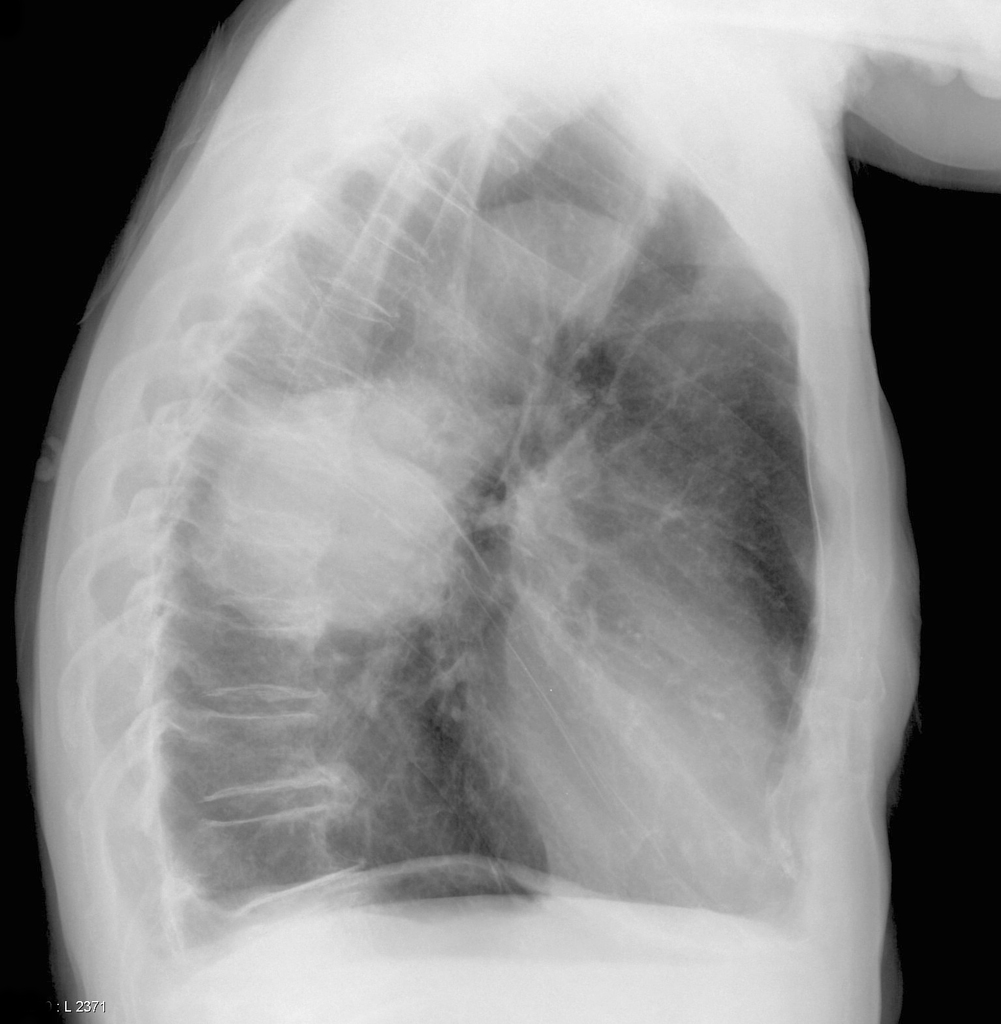cancer: (235, 155, 814, 902)
